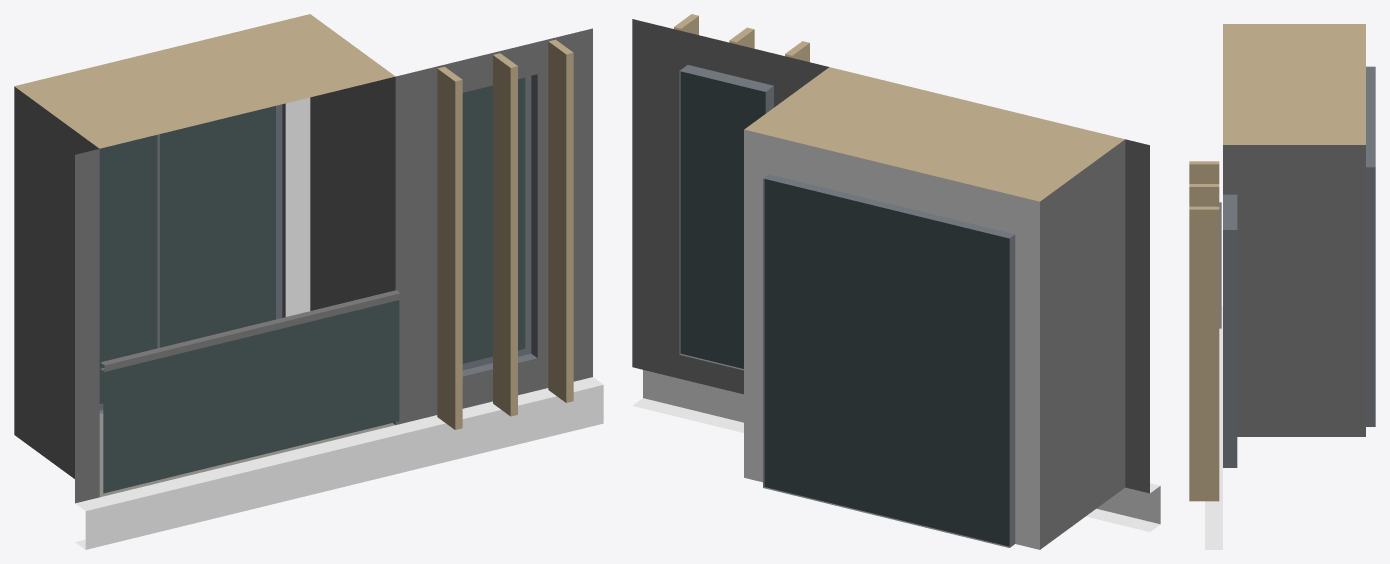
Rendered from mid-w1.fbx.
3 views of the same model, side by side, from view 1: azimuth 30°, elevation 25°; view 2: azimuth 150°, elevation 25°; view 3: azimuth 270°, elevation 25° (orthographic). The views are drawn at different scales.
Visible parts, largest first — view 1: a2006/750/mid-w1; view 2: a2006/750/mid-w1; view 3: a2006/750/mid-w1.
Part boxes in pixels (left/top/right/bottom): a2006/750/mid-w1: left=14, top=14, right=603, bottom=549; a2006/750/mid-w1: left=632, top=14, right=1160, bottom=549; a2006/750/mid-w1: left=1189, top=24, right=1375, bottom=549.
Bounding box in the file's own units: 4.2 × 3 × 1.56.
